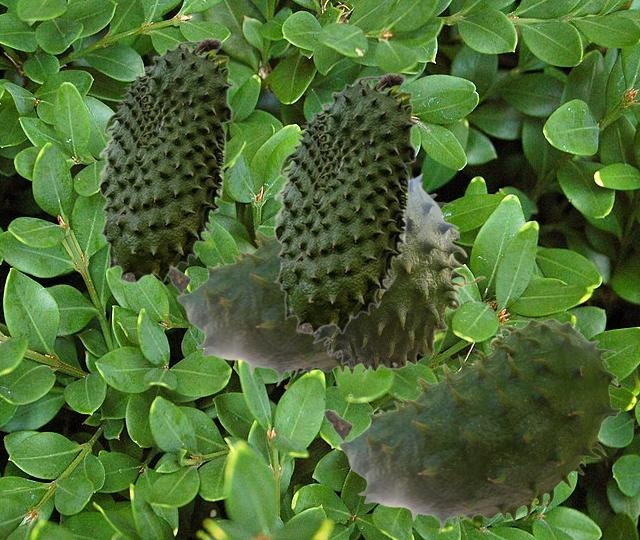guyabano: (323, 318, 621, 533), (168, 193, 459, 386), (272, 72, 417, 334), (312, 172, 485, 372), (97, 37, 233, 283)
